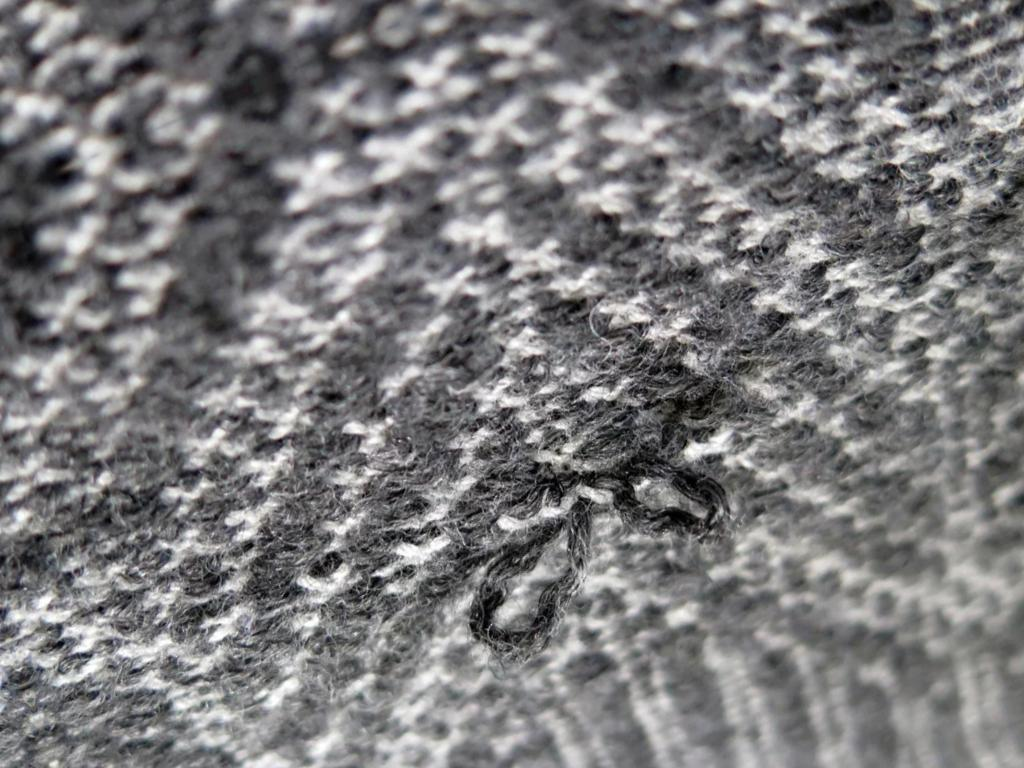snag: (443, 495, 593, 652), (609, 439, 738, 545)
